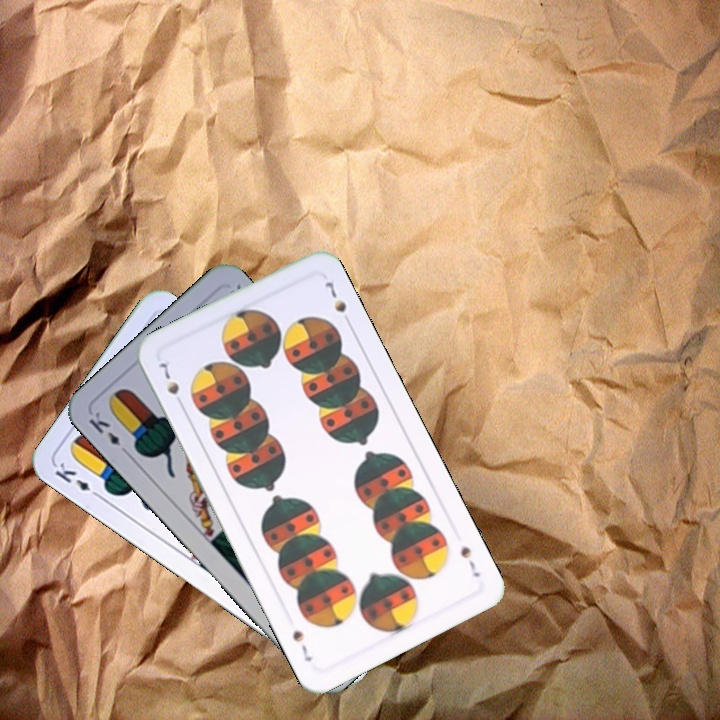EK: (85, 407, 132, 458), (51, 458, 104, 502)
S7: (153, 355, 187, 411), (456, 542, 483, 580)
